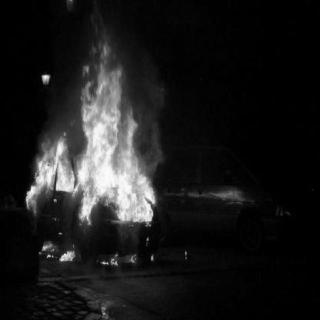Fire: (26, 8, 166, 266)
